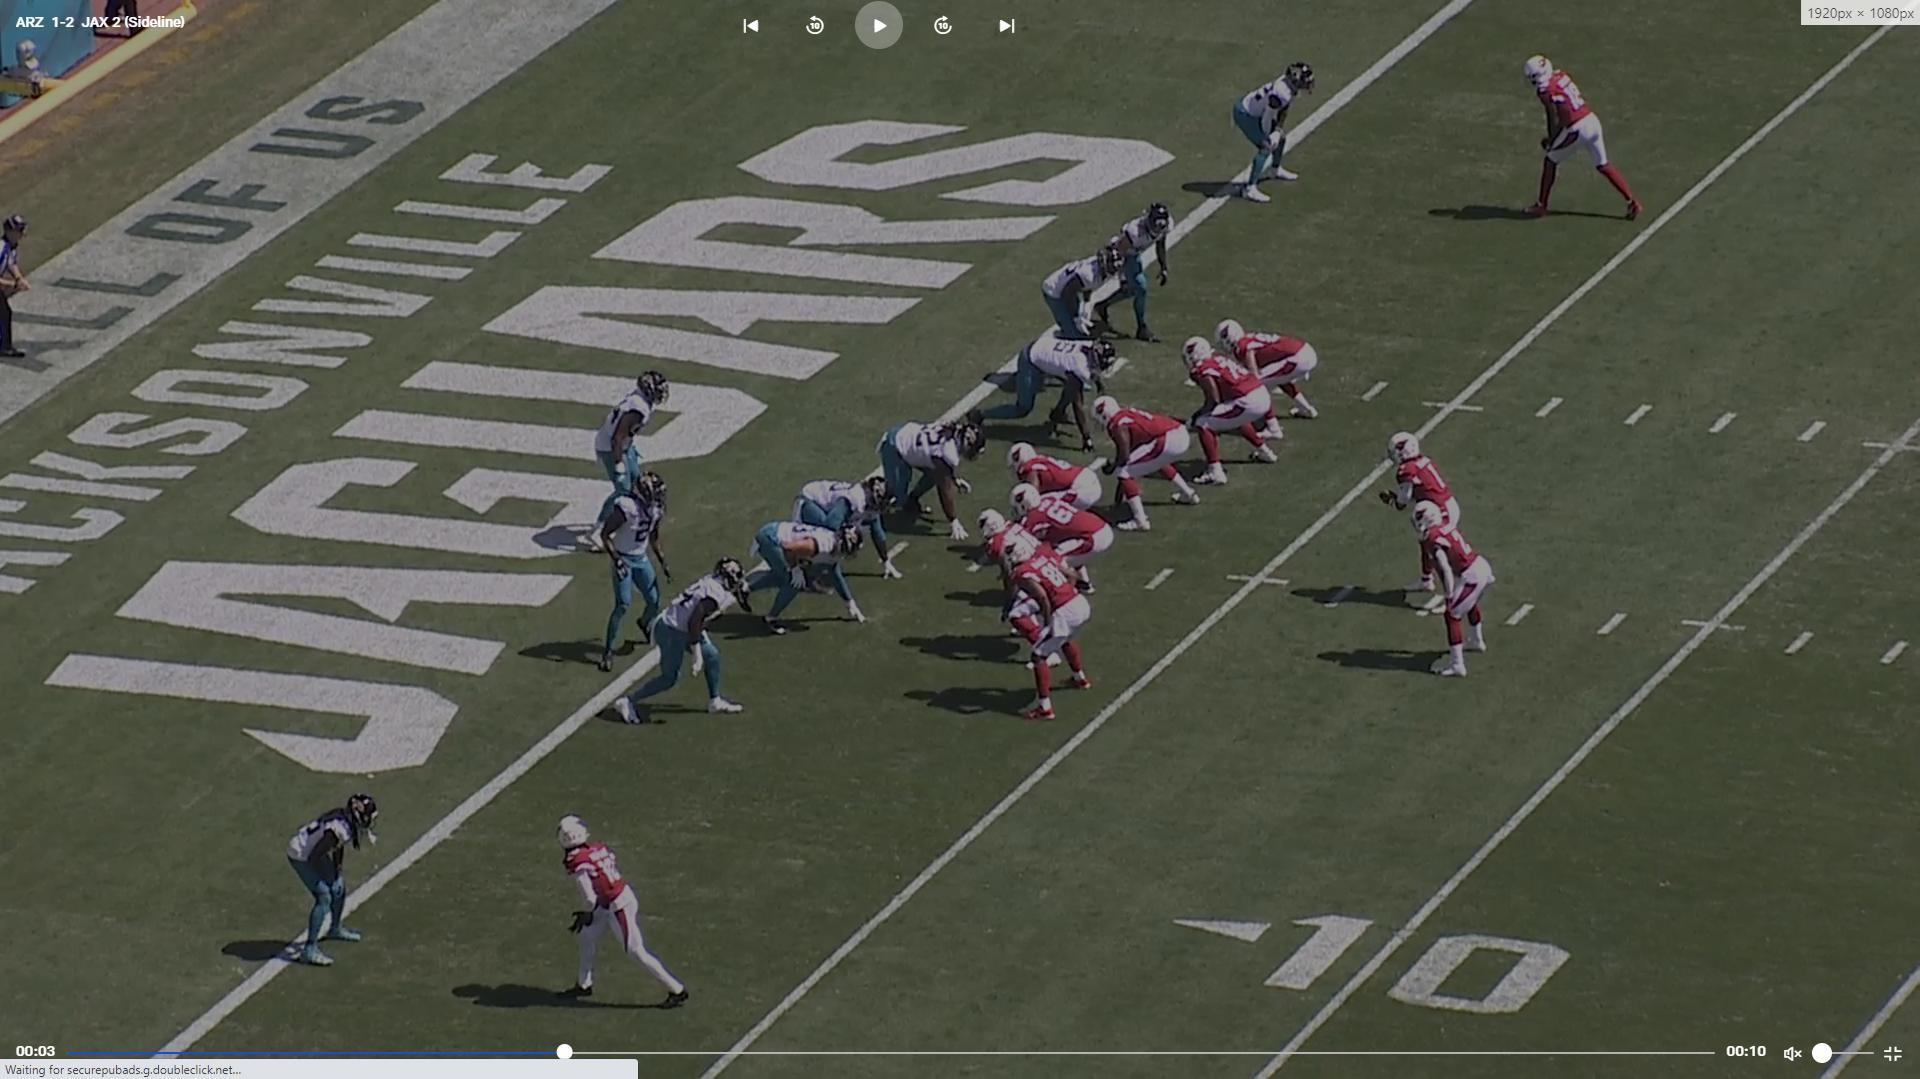defense: (619, 551, 744, 731), (291, 793, 387, 975), (979, 334, 1123, 449), (738, 520, 877, 639), (597, 469, 676, 677), (591, 371, 672, 563), (1229, 58, 1323, 216), (780, 470, 900, 587), (865, 414, 972, 540), (1105, 197, 1184, 332), (1040, 242, 1129, 346)
oline: (970, 500, 1072, 671), (1180, 336, 1278, 482), (1096, 398, 1203, 518), (1012, 485, 1109, 592), (1011, 442, 1100, 505)
qb: (1385, 434, 1456, 601)
ref: (0, 213, 32, 362)
skill: (556, 815, 701, 1010), (1524, 52, 1661, 223), (999, 531, 1106, 730), (1422, 508, 1500, 684), (1223, 318, 1323, 424)
